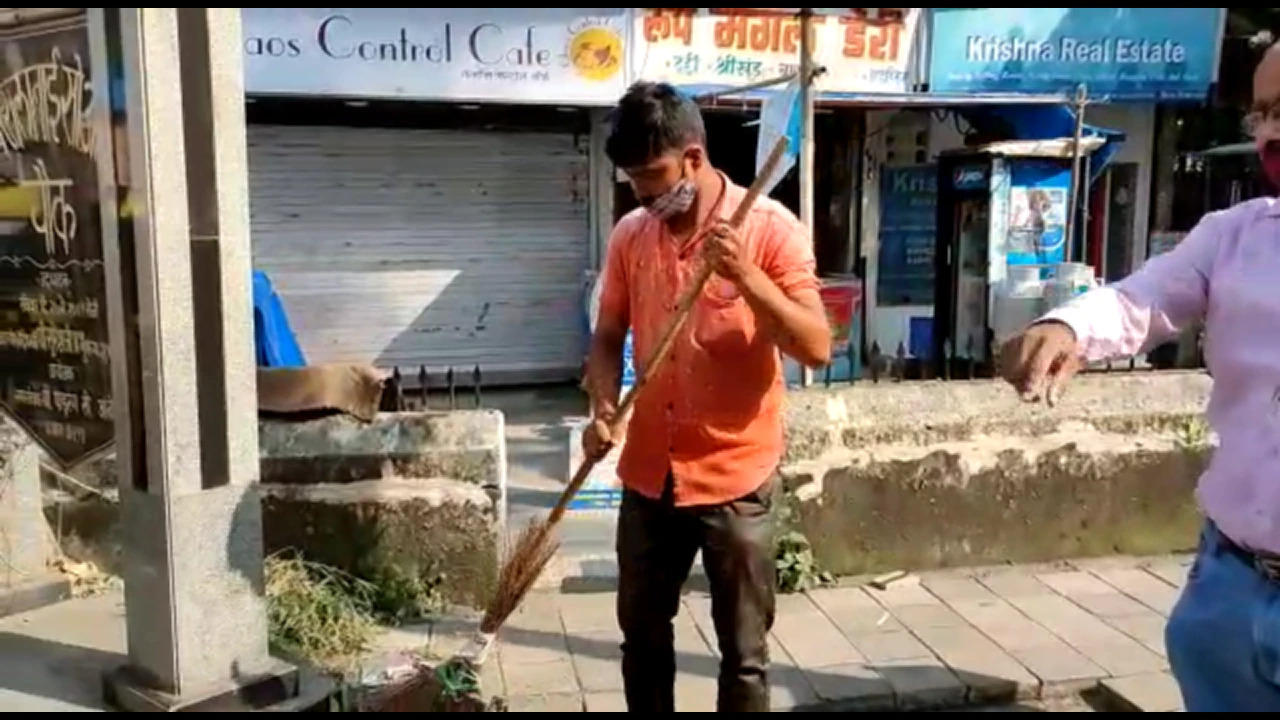with_incorrect_mask: (625, 163, 695, 212)
